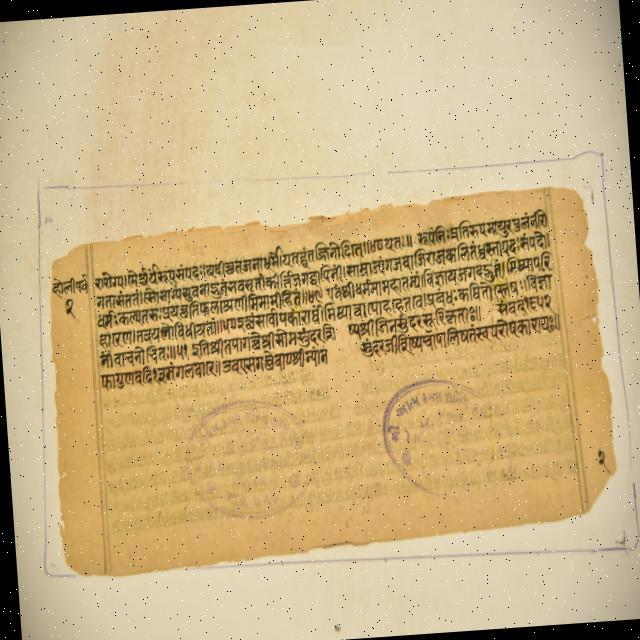text_paragraph: (49, 186, 619, 579)
